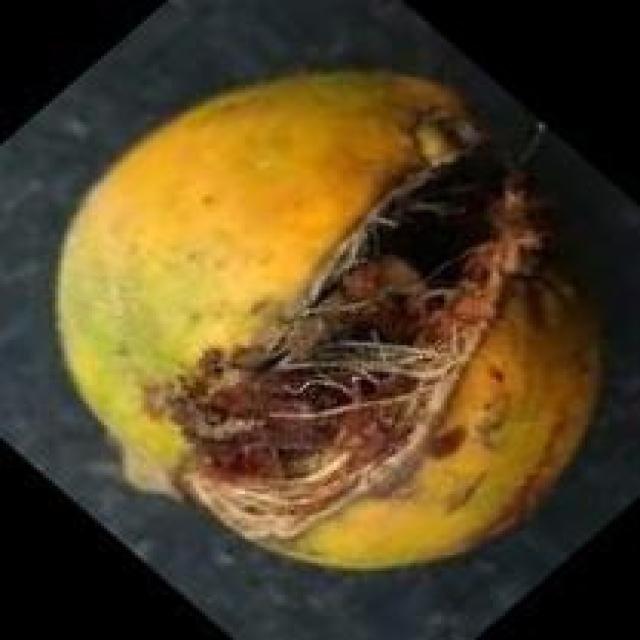damaged: (58, 72, 597, 566)
